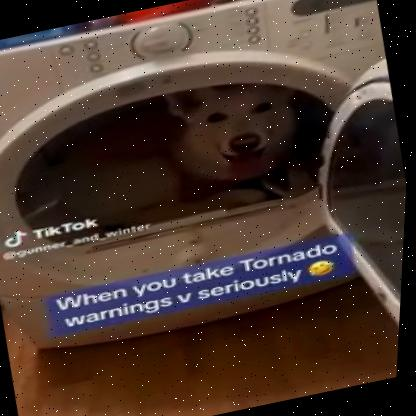dog: (137, 65, 326, 214)
